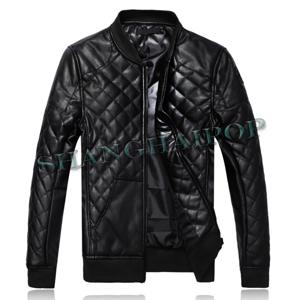C_jacket: (20, 4, 283, 296)
